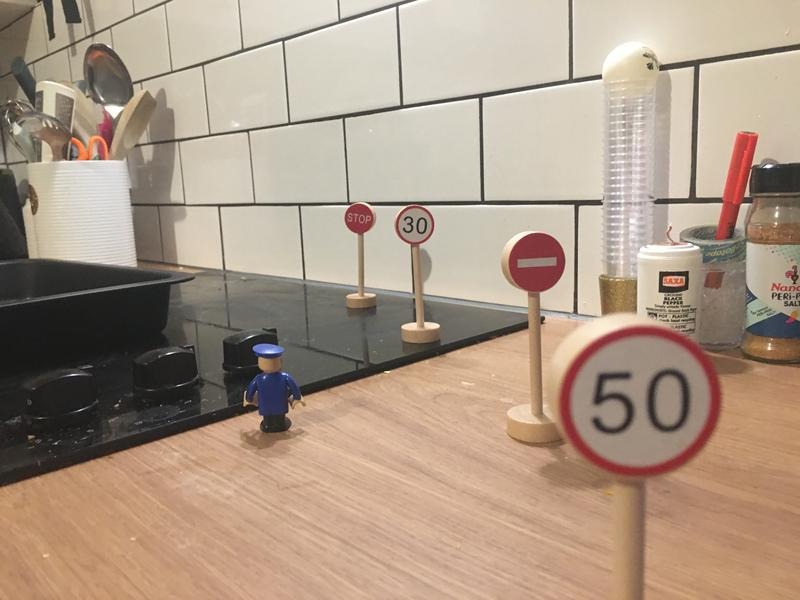Traffic_Sign_30: (396, 205, 435, 244)
Traffic_Sign_50: (556, 327, 722, 476)
Traffic_Sign_No_Entry: (508, 230, 566, 291)
Traffic_Sign_Stop: (346, 201, 374, 235)
person: (241, 339, 308, 435)
